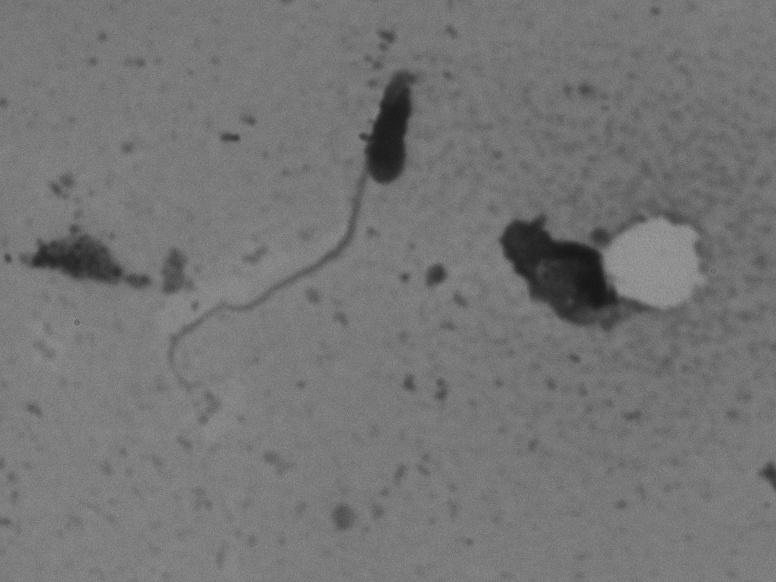Abnormal: (160, 43, 456, 447)
